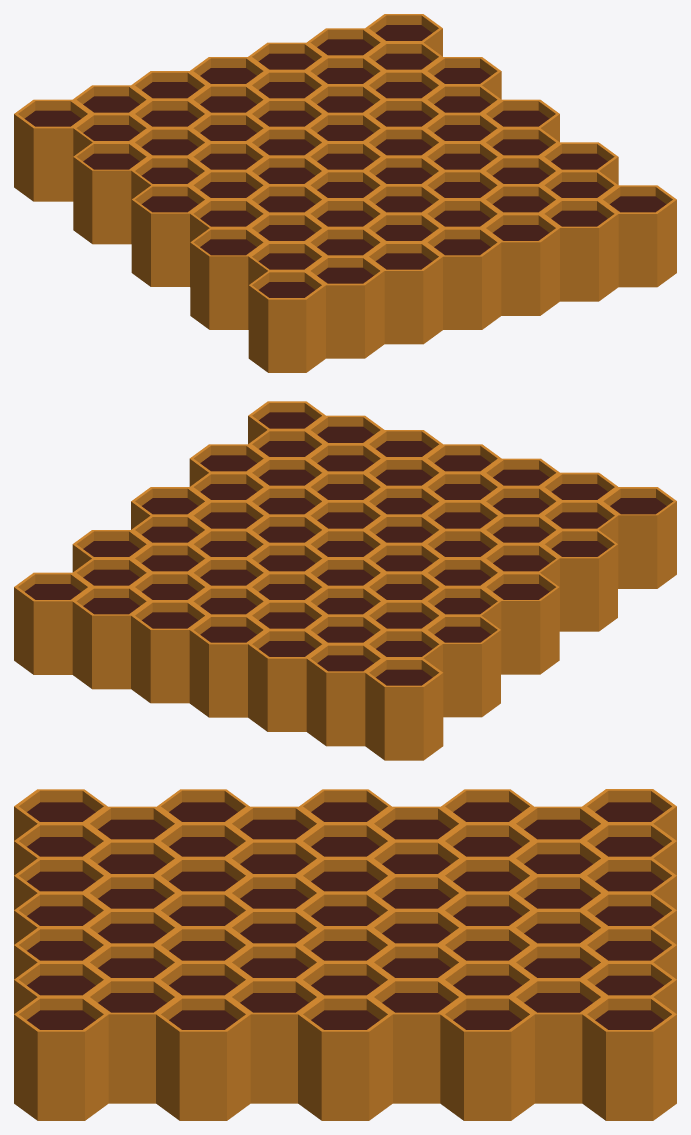
File: HoneyComb_4.fbx
The picture shows the model from 3 angles, top to bottom: view 1: azimuth 30°, elevation 25°; view 2: azimuth 150°, elevation 25°; view 3: azimuth 270°, elevation 25°; orthographic projection. The views are drawn at different scales.
Parts seen in each view (by area): view 1: HoneyComb, Honey.058, Honey.054, Honey.041, Honey.033, Honey.030, Honey.016, Honey.014, Honey.013, Honey.011, Honey.005, Honey.048 (+48 smaller); view 2: HoneyComb, Honey.044, Honey.002, Honey.055, Honey.054, Honey.053, Honey.051, Honey.049, Honey.048, Honey.042, Honey.040, Honey.039 (+48 smaller); view 3: HoneyComb, Honey.044, Honey.030, Honey.051, Honey.047, Honey.040, Honey.037, Honey.033, Honey.026, Honey.022, Honey.019, Honey.016 (+48 smaller).
Boxes of the visible parts, box(x1,y1,x2,y2) form: HoneyComb: box(14, 14, 676, 372); Honey.058: box(375, 139, 432, 155); Honey.054: box(258, 167, 315, 183); Honey.041: box(141, 139, 198, 155); Honey.033: box(375, 253, 432, 269); Honey.030: box(492, 167, 549, 183); Honey.016: box(141, 167, 198, 183); Honey.014: box(258, 139, 315, 155); Honey.013: box(375, 167, 432, 183); Honey.011: box(492, 139, 549, 155); Honey.005: box(258, 253, 315, 269); Honey.048: box(83, 96, 139, 112); HoneyComb: box(14, 401, 676, 760); Honey.044: box(141, 555, 198, 571); Honey.002: box(200, 512, 256, 528); Honey.055: box(434, 569, 490, 585); Honey.054: box(376, 555, 432, 571); Honey.053: box(200, 626, 256, 642); Honey.051: box(83, 598, 139, 614); Honey.049: box(376, 669, 432, 685); Honey.048: box(317, 655, 373, 671); Honey.042: box(434, 626, 490, 642); Honey.040: box(317, 598, 373, 614); Honey.039: box(434, 455, 490, 471); HoneyComb: box(14, 789, 676, 1120); Honey.044: box(453, 975, 521, 995); Honey.030: box(169, 975, 237, 995); Honey.051: box(595, 975, 663, 995); Honey.047: box(595, 871, 663, 891); Honey.040: box(453, 871, 521, 891); Honey.037: box(27, 975, 95, 995); Honey.033: box(27, 871, 95, 891); Honey.026: box(169, 871, 237, 891); Honey.022: box(524, 819, 592, 839); Honey.019: box(382, 923, 450, 943); Honey.016: box(382, 819, 450, 839).
Size of the model in its own units: 1061 by 184 by 1225.
